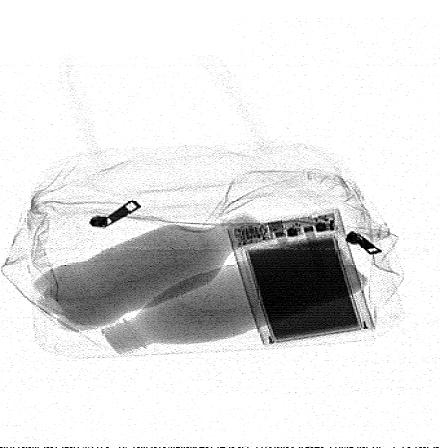Powerbank: (226, 207, 376, 347)
